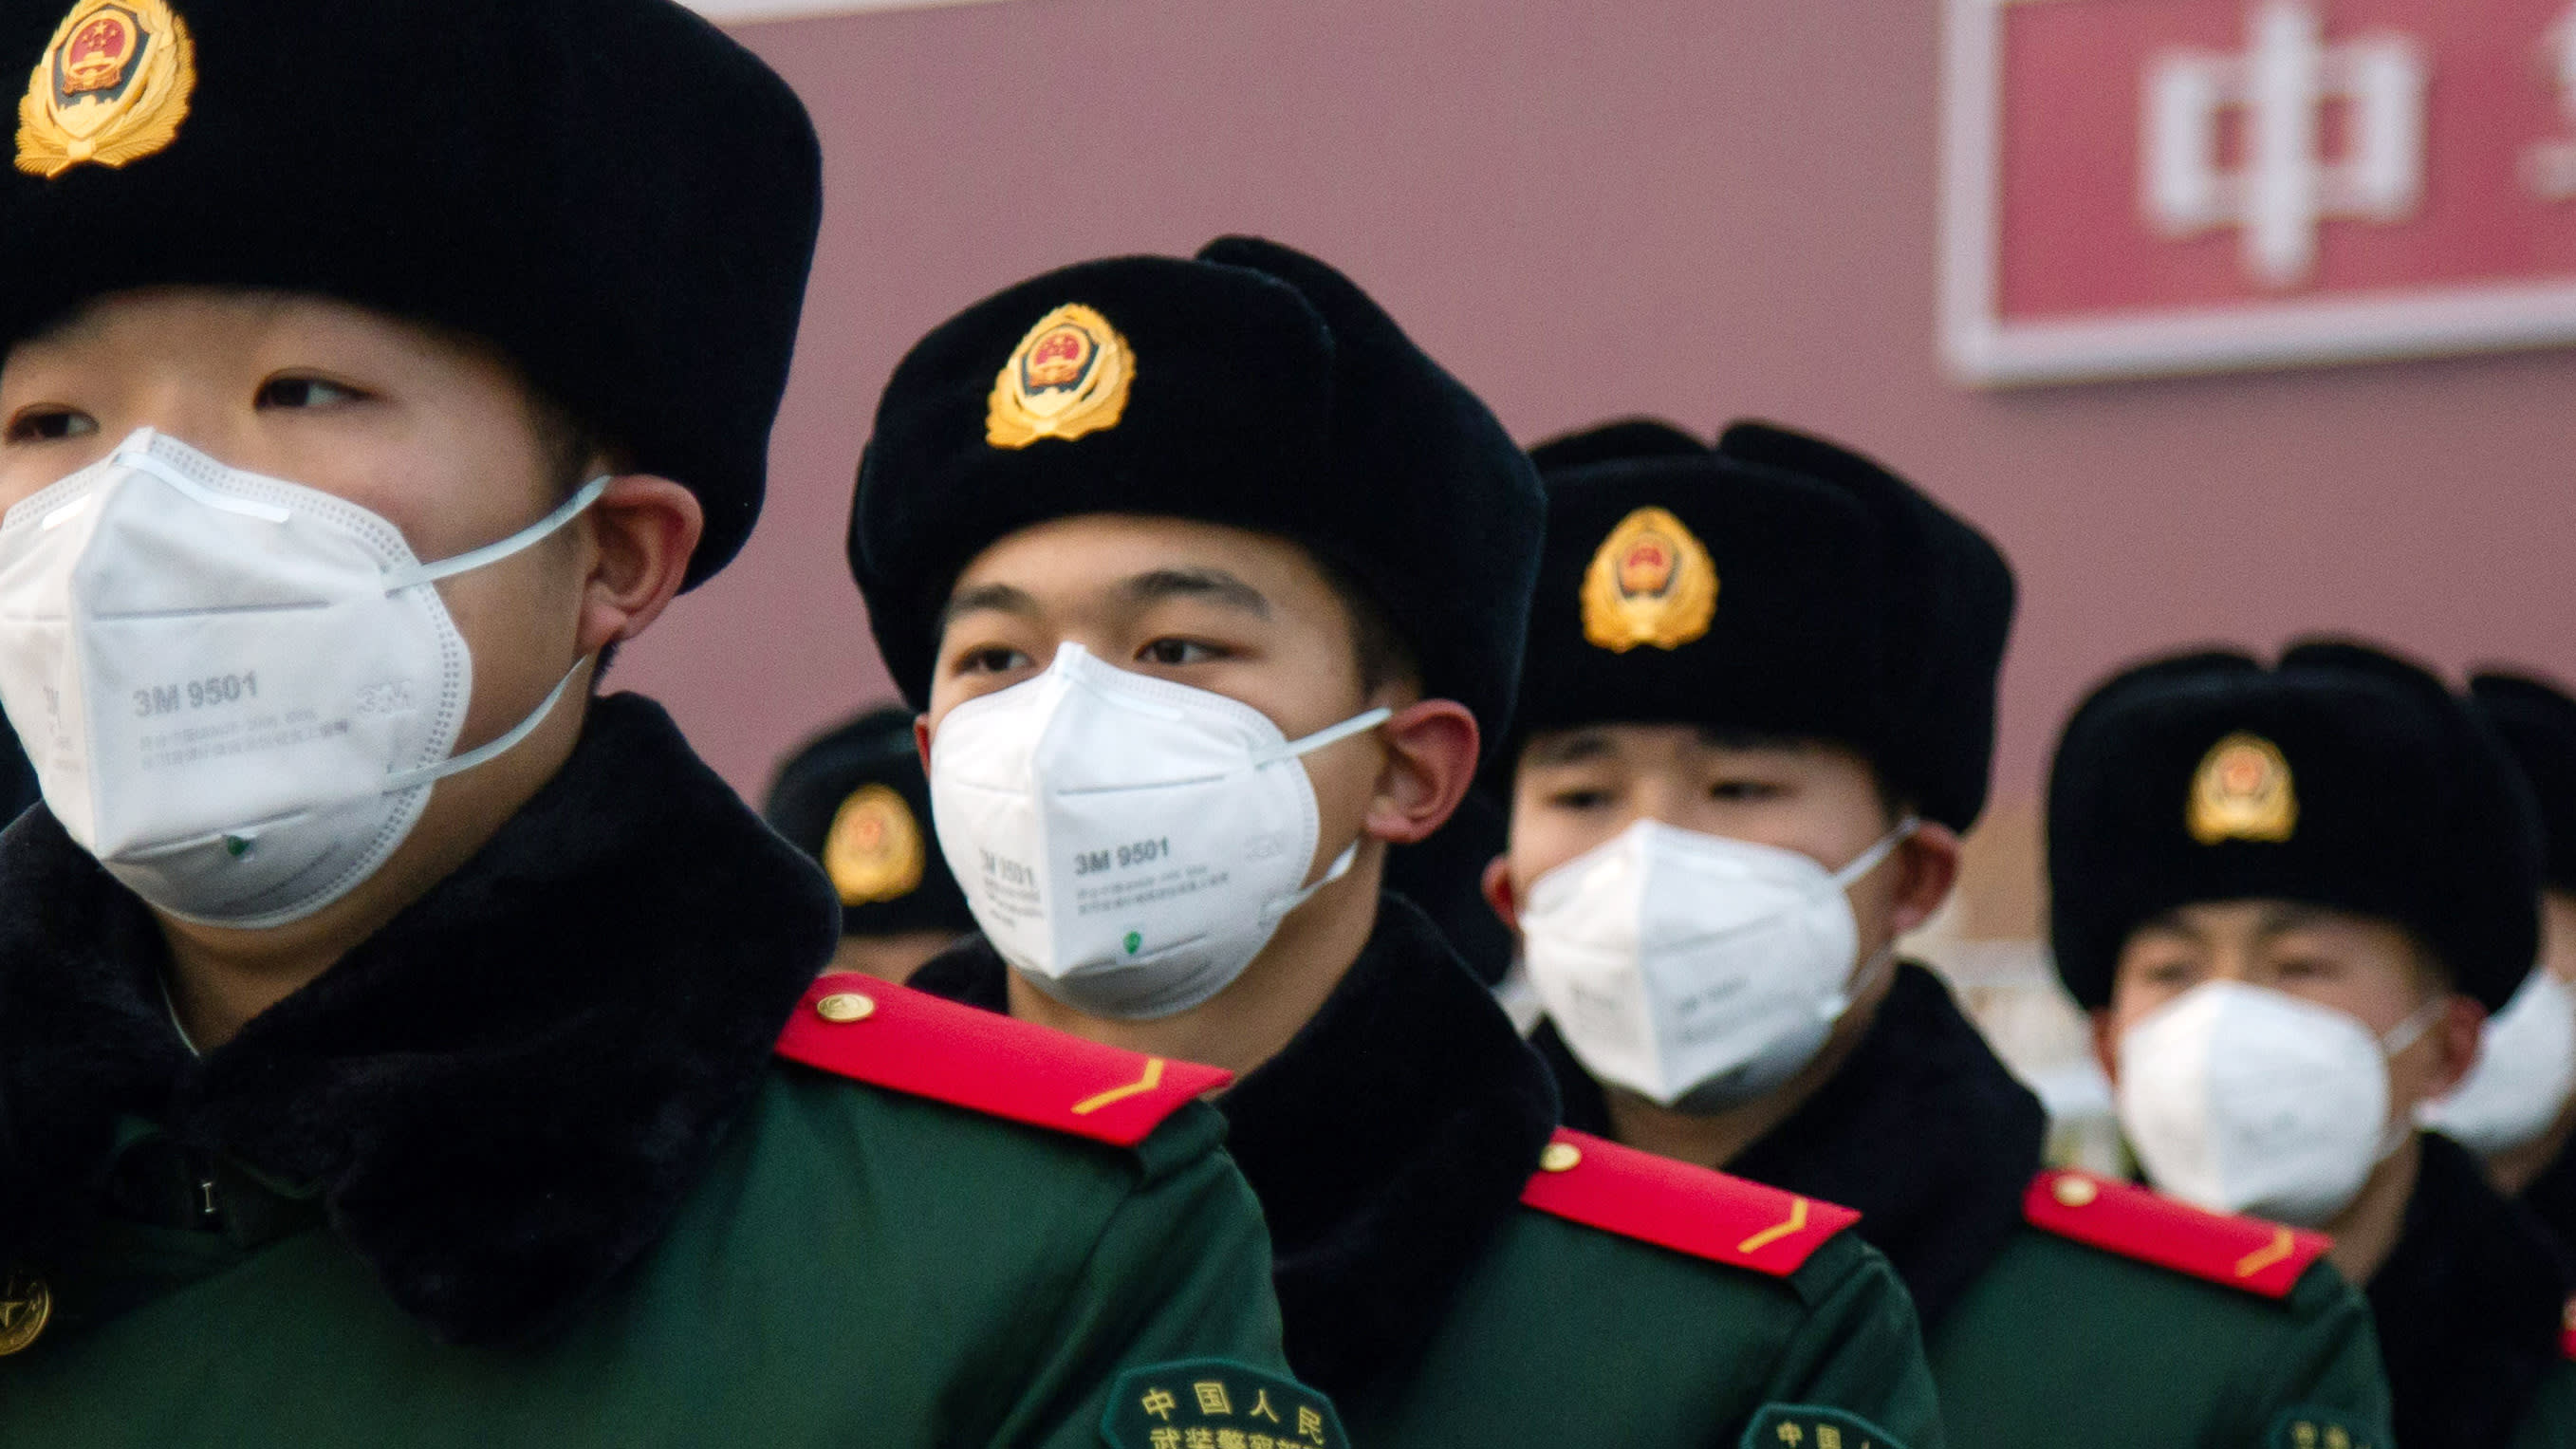n95: (2, 430, 491, 937), (902, 629, 1326, 1030), (1482, 799, 1866, 1118), (2106, 973, 2405, 1217)
